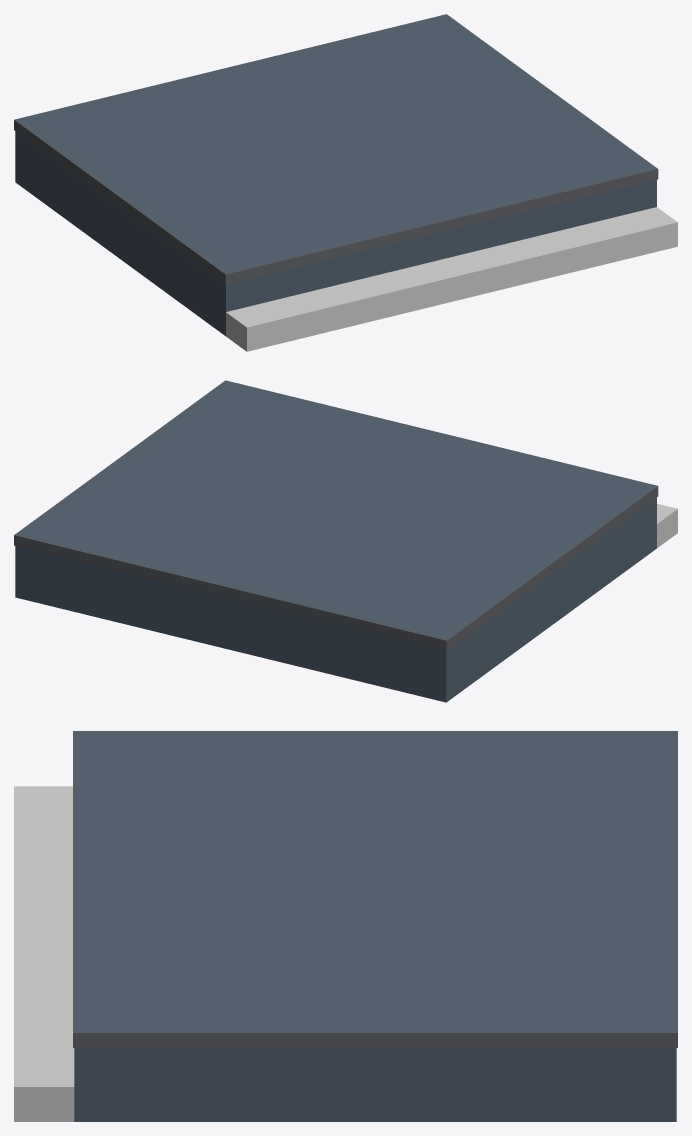
The model's file is condo-lobby.zfix-v2.lod2.glb.
3 renders of one model, top to bottom at view 1: azimuth 30°, elevation 25°; view 2: azimuth 150°, elevation 25°; view 3: azimuth 270°, elevation 25°, orthographic. The views are drawn at different scales.
Visible parts, largest first — view 1: condo-lobby; view 2: condo-lobby; view 3: condo-lobby.
Part boxes in pixels (x1=…): condo-lobby: x1=14, y1=14, x2=677, y2=351; condo-lobby: x1=14, y1=380, x2=677, y2=702; condo-lobby: x1=14, y1=731, x2=677, y2=1121.
Bounding box in the file's own units: 26.1 × 3.62 × 24.25.
